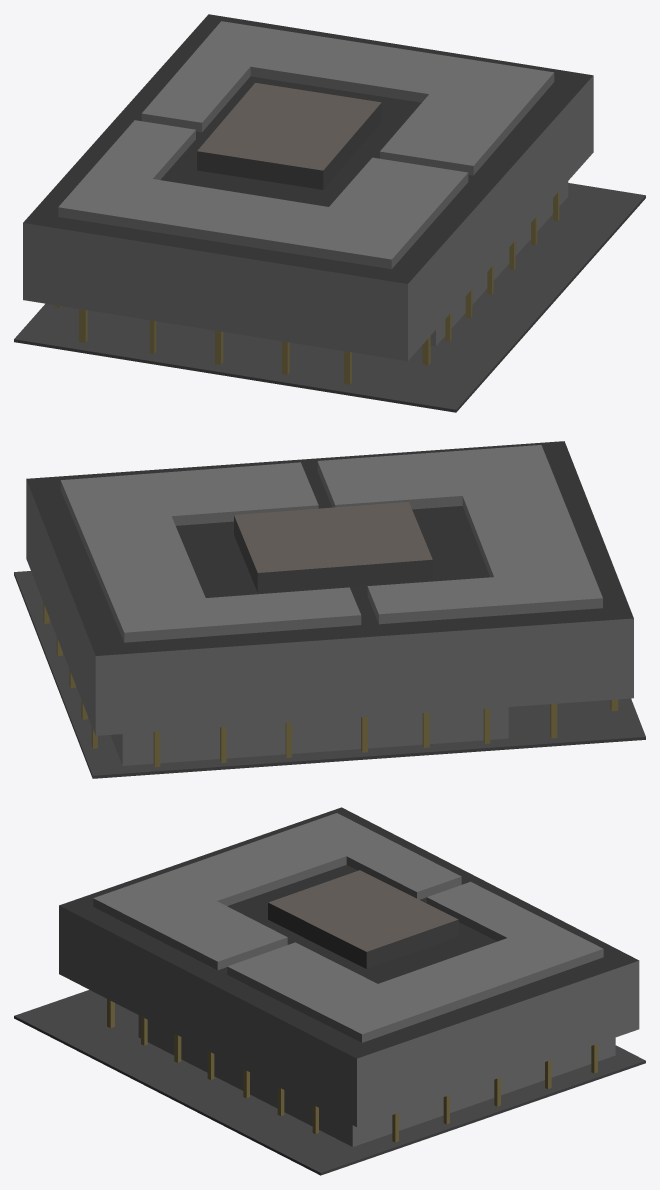
Rendered from Gebaeude 8.obj.
3 renders of one model, top to bottom at view 1: azimuth 30°, elevation 25°; view 2: azimuth 150°, elevation 25°; view 3: azimuth 270°, elevation 25°, orthographic. The views are drawn at different scales.
Size of the model in its own units: 67.39 by 14 by 66.72.
